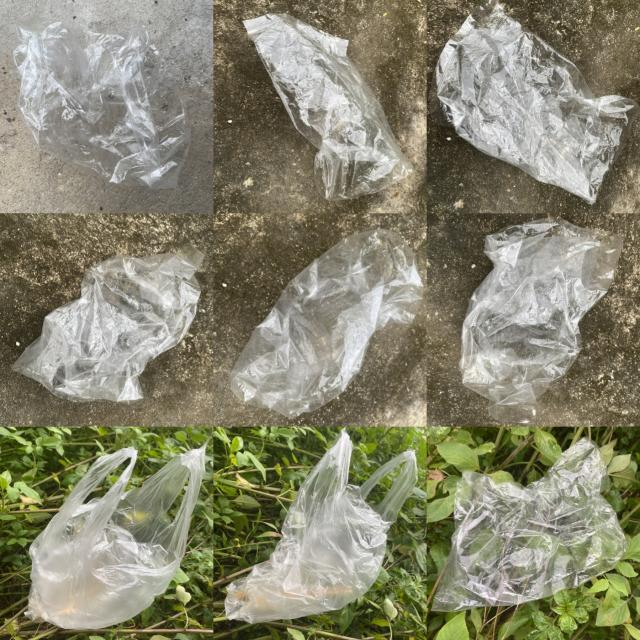Single-layer Plastic: (435, 0, 640, 203), (225, 429, 418, 624), (230, 229, 422, 419), (432, 439, 626, 611), (26, 446, 205, 629), (244, 14, 412, 200), (12, 244, 204, 402), (460, 218, 622, 404), (14, 19, 191, 189)
